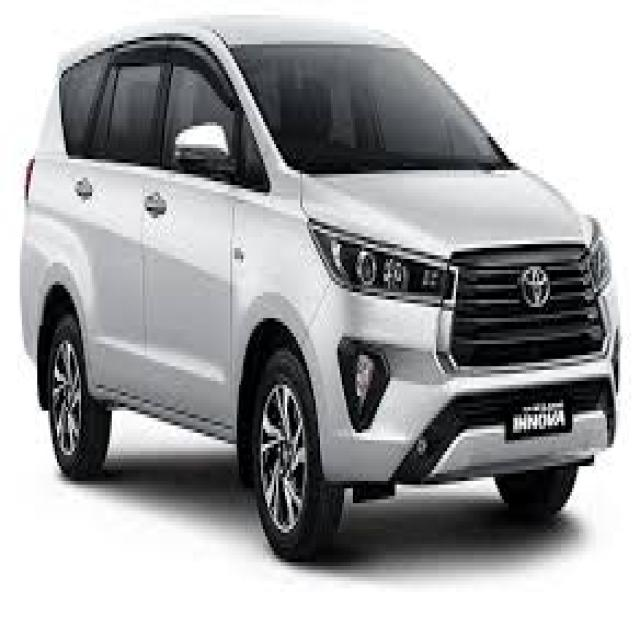light_vehicle: (18, 12, 622, 566)
